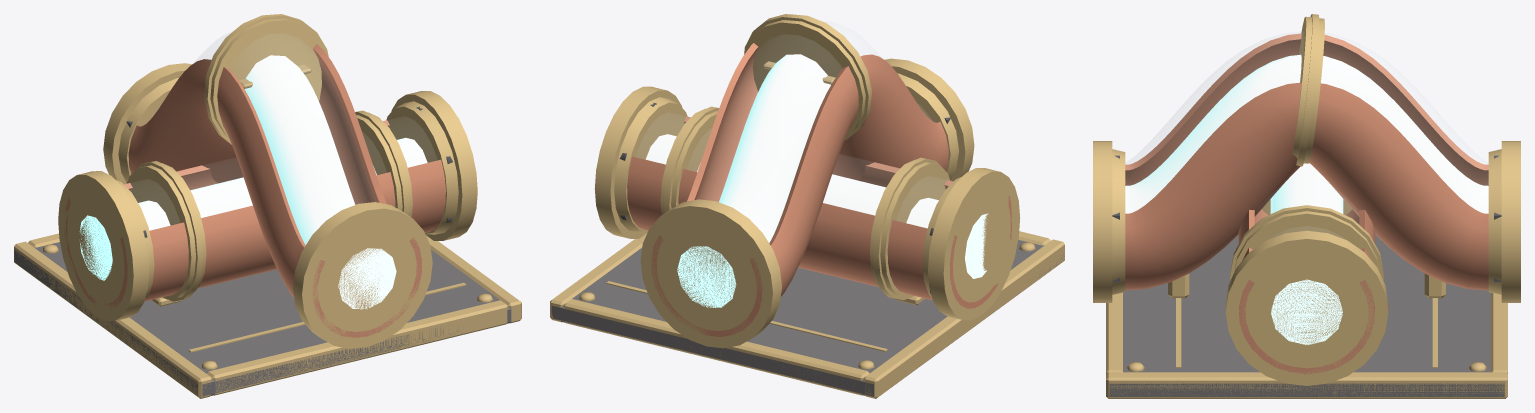
The model's file is pipe_cross.glb.
3 views of the same model, side by side, from view 1: azimuth 30°, elevation 25°; view 2: azimuth 150°, elevation 25°; view 3: azimuth 270°, elevation 25° (orthographic). The views are drawn at different scales.
Parts seen in each view (by area): view 1: pipe_cross, glow_path_v, glow_path; view 2: pipe_cross, glow_path_v, glow_path; view 3: pipe_cross, glow_path_v, glow_path.
Boxes of the visible parts, bbox=[...] form: pipe_cross: bbox=[14, 14, 521, 398]; glow_path_v: bbox=[244, 55, 396, 309]; glow_path: bbox=[79, 137, 427, 280]; pipe_cross: bbox=[550, 14, 1064, 398]; glow_path_v: bbox=[677, 54, 830, 307]; glow_path: bbox=[645, 134, 988, 278]; pipe_cross: bbox=[1093, 14, 1520, 398]; glow_path_v: bbox=[1125, 54, 1488, 213]; glow_path: bbox=[1270, 163, 1343, 344].
Bounding box in the file's own units: 1 × 0.7597 × 1.
